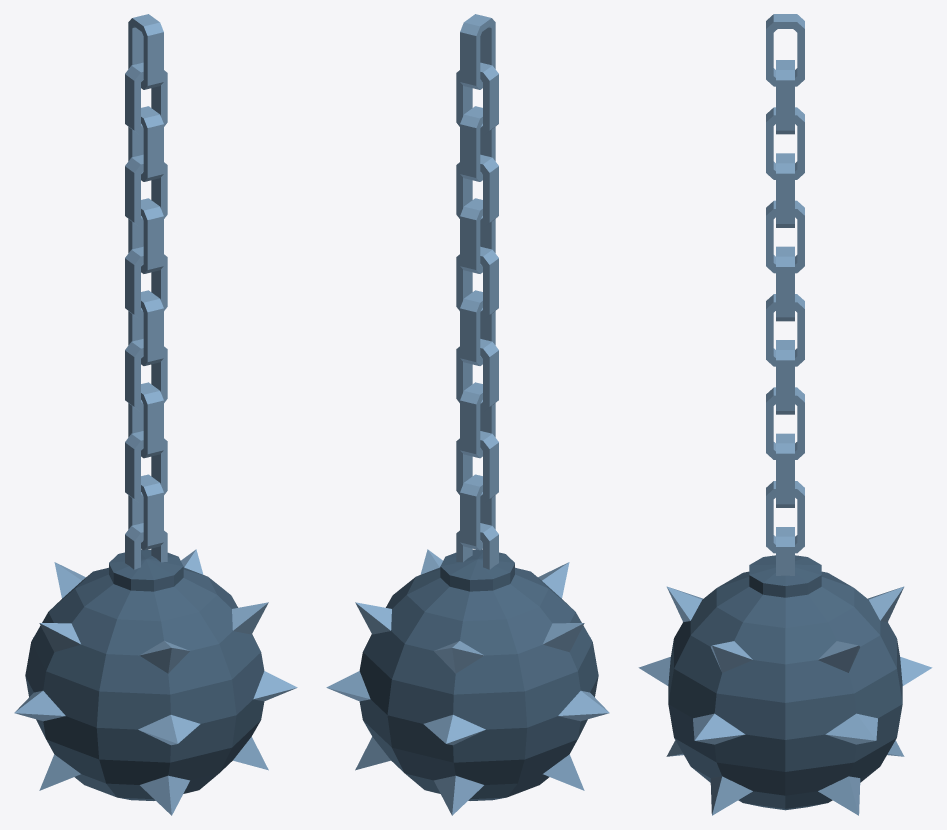
The model's file is ballandchain.fbx.
3 views of the same model, side by side, from view 1: azimuth 30°, elevation 25°; view 2: azimuth 150°, elevation 25°; view 3: azimuth 270°, elevation 25° (orthographic).
Parts seen in each view (by area): view 1: pSphere1, polySurface15, polySurface9, polySurface13, polySurface11, polySurface7, polySurface4, polySurface12, polySurface6, polySurface14, polySurface10, polySurface8 (+1 smaller); view 2: pSphere1, polySurface15, polySurface9, polySurface13, polySurface11, polySurface7, polySurface4, polySurface12, polySurface6, polySurface14, polySurface10, polySurface8 (+1 smaller); view 3: pSphere1, polySurface15, polySurface10, polySurface14, polySurface12, polySurface8, polySurface6, polySurface11, polySurface4, polySurface7, polySurface13, polySurface9 (+1 smaller).
Part boxes in pixels (left/top/right/bottom): pSphere1: left=14, top=549, right=297, bottom=815; polySurface15: left=128, top=14, right=163, bottom=89; polySurface9: left=128, top=290, right=163, bottom=365; polySurface13: left=128, top=106, right=163, bottom=181; polySurface11: left=128, top=198, right=163, bottom=273; polySurface7: left=128, top=382, right=163, bottom=458; polySurface4: left=128, top=474, right=163, bottom=550; polySurface12: left=125, top=154, right=167, bottom=227; polySurface6: left=125, top=431, right=167, bottom=504; polySurface14: left=125, top=62, right=167, bottom=135; polySurface10: left=125, top=246, right=167, bottom=319; polySurface8: left=125, top=339, right=167, bottom=412; pSphere1: left=326, top=549, right=609, bottom=815; polySurface15: left=460, top=14, right=495, bottom=89; polySurface9: left=460, top=290, right=495, bottom=365; polySurface13: left=460, top=106, right=495, bottom=181; polySurface11: left=460, top=198, right=495, bottom=273; polySurface7: left=460, top=382, right=495, bottom=458; polySurface4: left=460, top=474, right=495, bottom=550; polySurface12: left=456, top=154, right=498, bottom=227; polySurface6: left=456, top=431, right=498, bottom=504; polySurface14: left=456, top=62, right=498, bottom=135; polySurface10: left=456, top=246, right=498, bottom=319; polySurface8: left=456, top=339, right=498, bottom=412; pSphere1: left=638, top=555, right=932, bottom=815; polySurface15: left=766, top=14, right=804, bottom=86; polySurface10: left=776, top=246, right=794, bottom=321; polySurface14: left=776, top=60, right=794, bottom=134; polySurface12: left=776, top=153, right=794, bottom=227; polySurface8: left=776, top=340, right=794, bottom=414; polySurface6: left=776, top=433, right=794, bottom=507; polySurface11: left=766, top=200, right=804, bottom=273; polySurface4: left=766, top=481, right=804, bottom=553; polySurface7: left=766, top=387, right=804, bottom=459; polySurface13: left=766, top=107, right=804, bottom=179; polySurface9: left=766, top=294, right=804, bottom=366.
Size of the model in its own units: 2.87 by 8.85 by 3.02.
